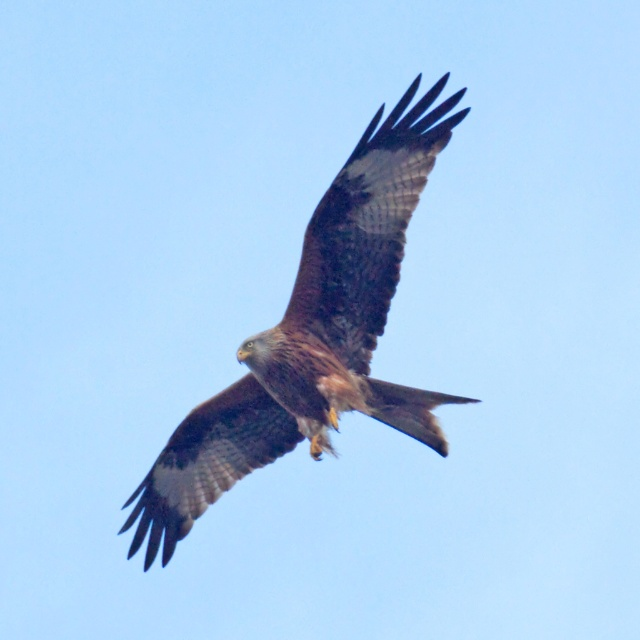Eagle: (111, 68, 488, 571)
